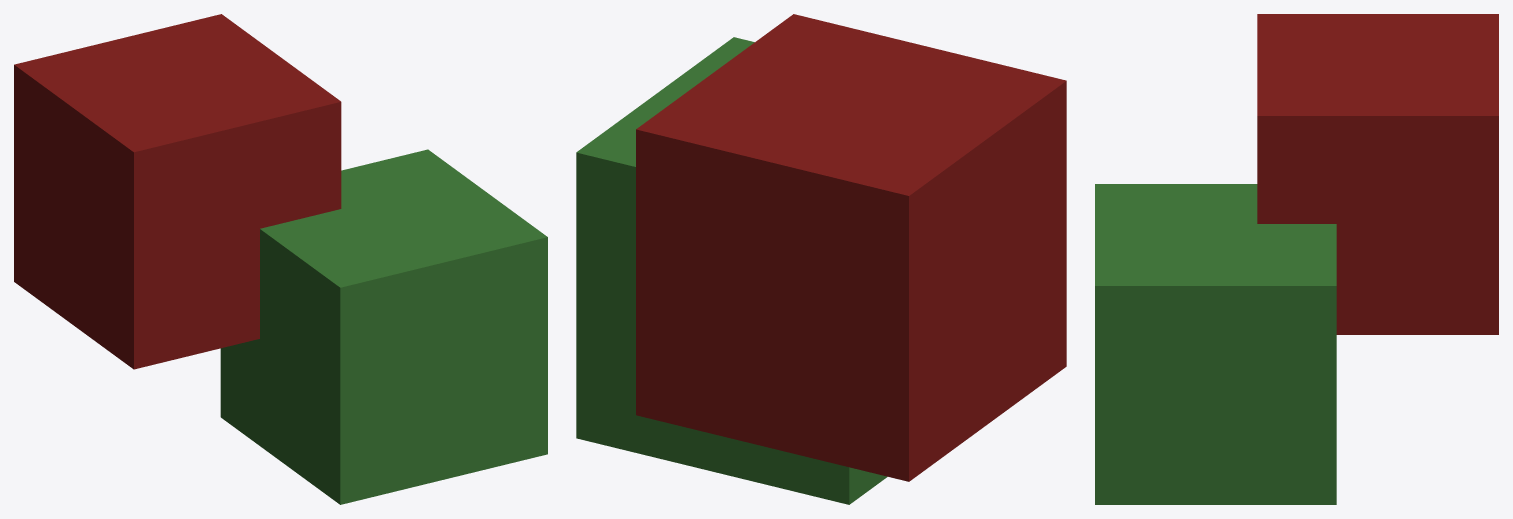
File: try boollllll.fbx
3 renders of one model, left to right at view 1: azimuth 30°, elevation 25°; view 2: azimuth 150°, elevation 25°; view 3: azimuth 270°, elevation 25°, orthographic. The views are drawn at different scales.
Visible parts, largest first — view 1: polySurface1; view 2: polySurface1; view 3: polySurface1.
Boxes of the visible parts, <box> form: polySurface1: <box>14,14,547,504</box>; polySurface1: <box>576,14,1066,504</box>; polySurface1: <box>1095,14,1498,504</box>.
Bounding box in the file's own units: 43.45 × 40.38 × 45.21.
